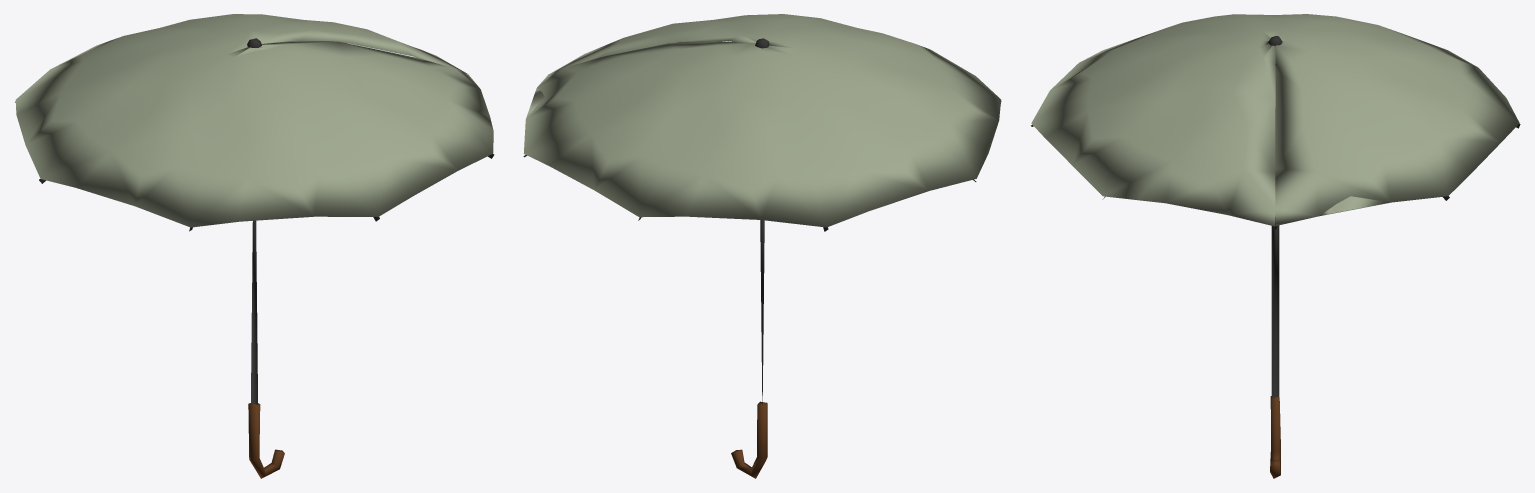
File: du_tay.glb
3 renders of one model, left to right at view 1: azimuth 30°, elevation 25°; view 2: azimuth 150°, elevation 25°; view 3: azimuth 270°, elevation 25°, orthographic.
Parts seen in each view (by area): view 1: du_tay_may; view 2: du_tay_may; view 3: du_tay_may.
Boxes of the visible parts, bbox=[...] form: du_tay_may: bbox=[15, 14, 494, 478]; du_tay_may: bbox=[523, 14, 1001, 478]; du_tay_may: bbox=[1031, 14, 1520, 478].
Size of the model in its own units: 1 by 0.9863 by 1.
